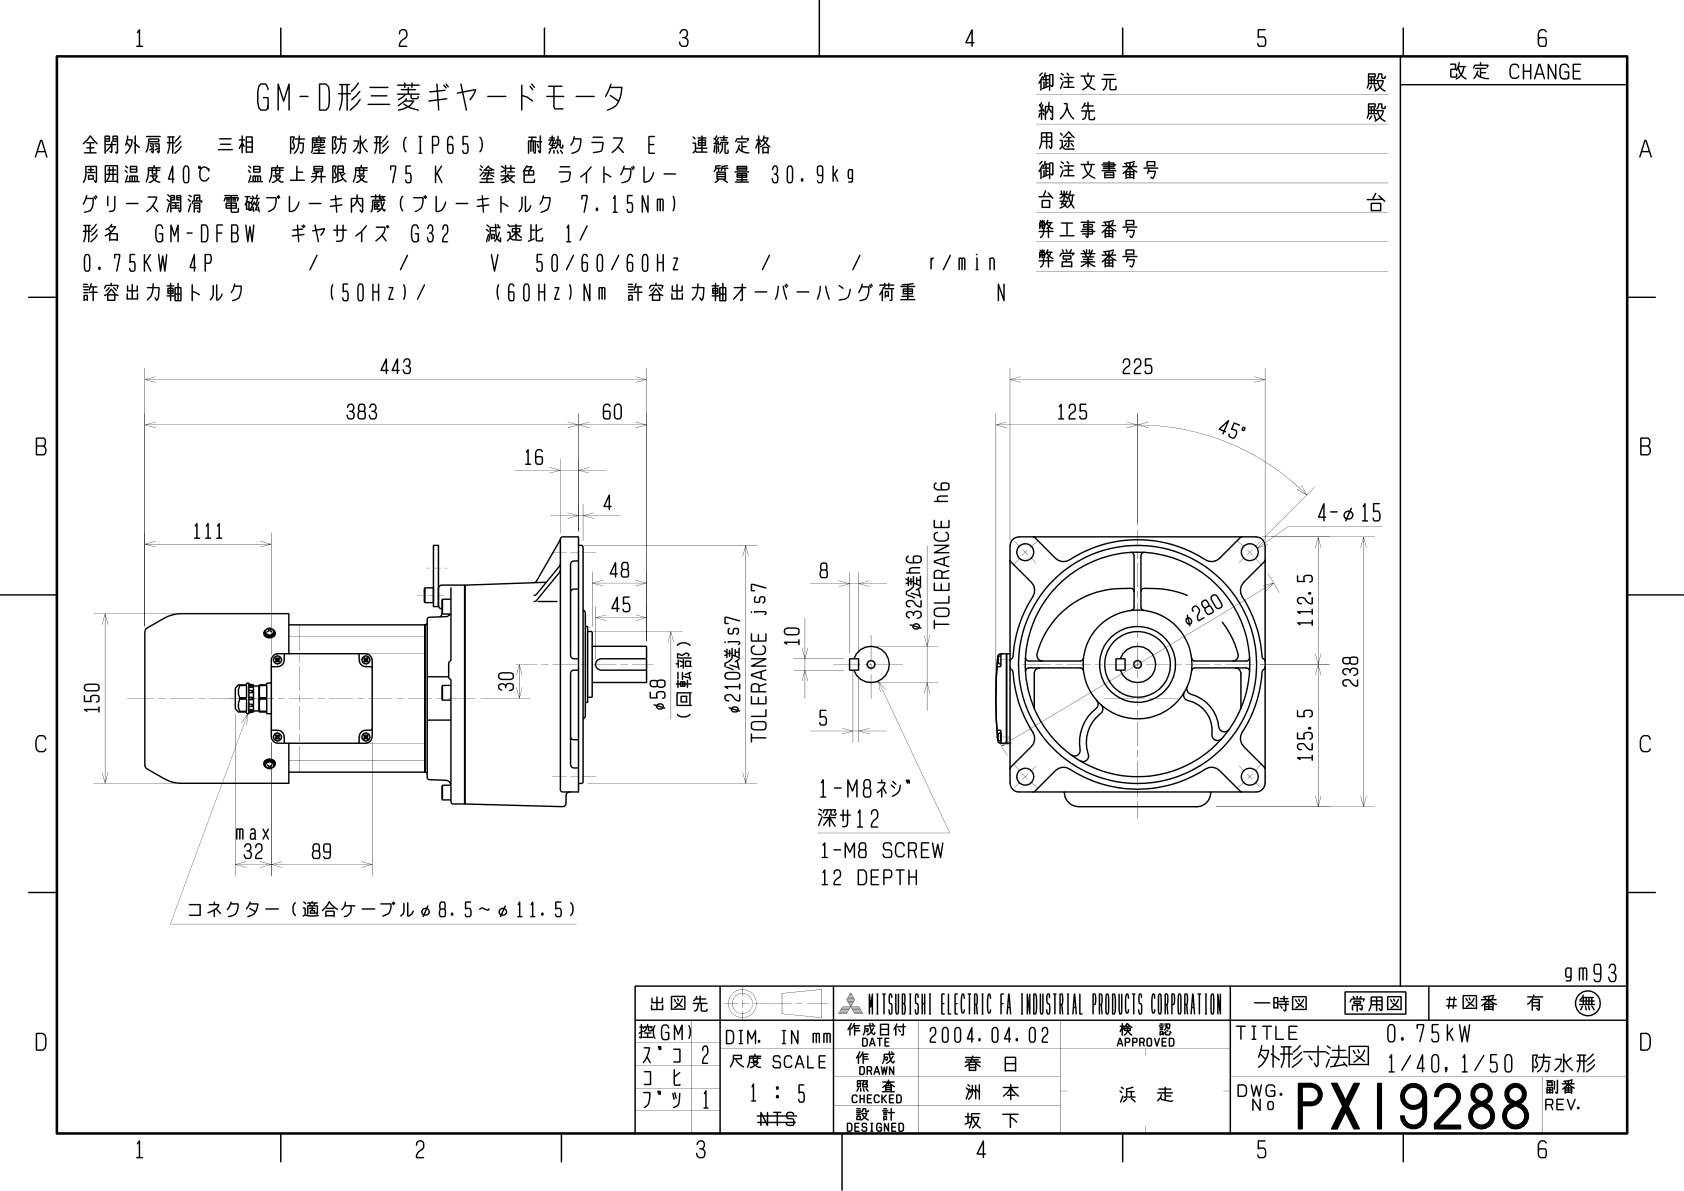GM_D_IP65_三相_フランジ: (71, 335, 1395, 947)
